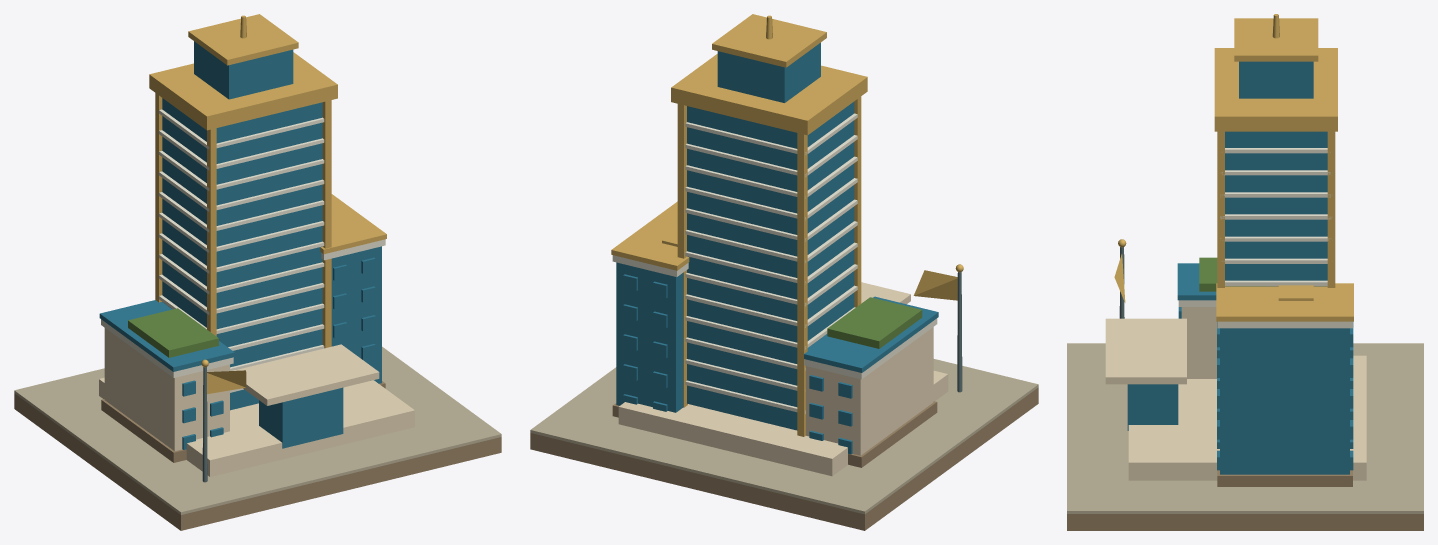
File: club-headquarters-lv5.glb
3 renders of one model, left to right at view 1: azimuth 30°, elevation 25°; view 2: azimuth 150°, elevation 25°; view 3: azimuth 270°, elevation 25°, orthographic. The views are drawn at different scales.
Parts seen in each view (by area): view 1: office_tower_glass, foundation_paving, floor_bands_white, foundation_stoneDark, headquarters_plinth_cream, office_wing_cream, tower_crown_gold, tower_mullions_gold, entrance_canopy_cream, secondary_tower_glass, entrance_lobby_glass, penthouse_glass (+10 smaller); view 2: office_tower_glass, foundation_paving, floor_bands_white, foundation_stoneDark, office_wing_cream, headquarters_plinth_cream, secondary_tower_glass, tower_crown_gold, tower_mullions_gold, penthouse_glass, crown_cap_gold, roof_garden_grass (+9 smaller); view 3: foundation_paving, secondary_tower_glass, office_tower_glass, headquarters_plinth_cream, tower_crown_gold, foundation_stoneDark, entrance_canopy_cream, secondary_tower_roof_gold, floor_bands_white, crown_cap_gold, penthouse_glass, tower_mullions_gold (+8 smaller).
Boxes of the visible parts, <box> form: office_tower_glass: <box>162,98,322,410</box>; foundation_paving: <box>14,346,501,514</box>; floor_bands_white: <box>159,109,324,392</box>; foundation_stoneDark: <box>14,393,501,530</box>; headquarters_plinth_cream: <box>99,377,414,476</box>; office_wing_cream: <box>104,328,229,451</box>; tower_crown_gold: <box>149,52,337,130</box>; tower_mullions_gold: <box>155,93,331,348</box>; entrance_canopy_cream: <box>233,344,379,405</box>; secondary_tower_glass: <box>331,246,381,383</box>; entrance_lobby_glass: <box>259,387,343,448</box>; penthouse_glass: <box>194,41,293,99</box>; office_tower_glass: <box>687,101,854,430</box>; foundation_paving: <box>530,359,1038,514</box>; floor_bands_white: <box>685,113,857,413</box>; foundation_stoneDark: <box>530,387,1038,530</box>; office_wing_cream: <box>806,327,933,455</box>; headquarters_plinth_cream: <box>618,370,948,476</box>; secondary_tower_glass: <box>616,262,683,412</box>; tower_crown_gold: <box>671,54,867,135</box>; tower_mullions_gold: <box>677,96,861,436</box>; penthouse_glass: <box>717,42,820,102</box>; crown_cap_gold: <box>712,14,826,67</box>; roof_garden_grass: <box>827,297,922,348</box>; foundation_paving: <box>1067,343,1423,513</box>; secondary_tower_glass: <box>1220,328,1349,474</box>; office_tower_glass: <box>1225,131,1327,286</box>; headquarters_plinth_cream: <box>1128,355,1366,480</box>; tower_crown_gold: <box>1214,48,1337,131</box>; foundation_stoneDark: <box>1067,514,1423,530</box>; entrance_canopy_cream: <box>1105,318,1186,384</box>; secondary_tower_roof_gold: <box>1216,283,1353,321</box>; floor_bands_white: <box>1220,148,1332,285</box>; crown_cap_gold: <box>1234,18,1318,61</box>; penthouse_glass: <box>1239,61,1313,98</box>; tower_mullions_gold: <box>1217,131,1335,287</box>.
Bounding box in the file's own units: 1 × 1.2 × 0.9.
